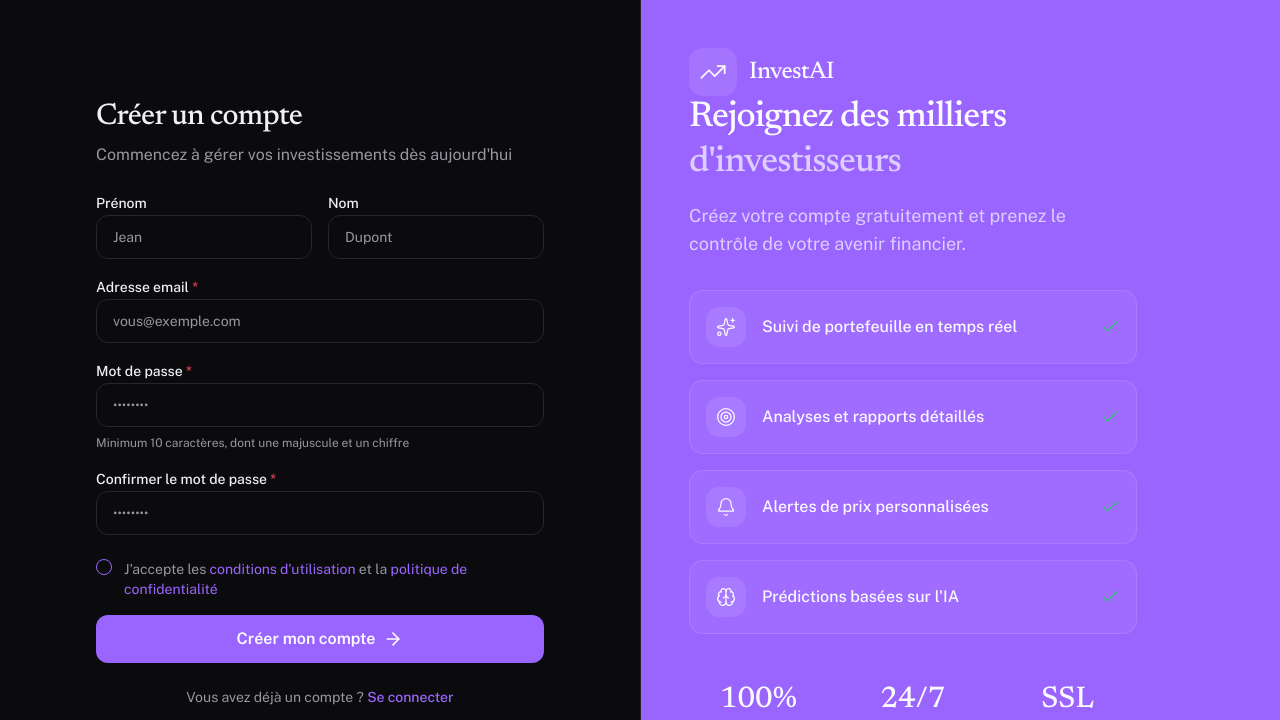
ce que le formulaire refuse avant d’appeler le serveur › exige une adresse valide
Type "pas-une-adresse" into the field labelled "Adresse email *" at [320, 321], box [96, 299, 544, 343]
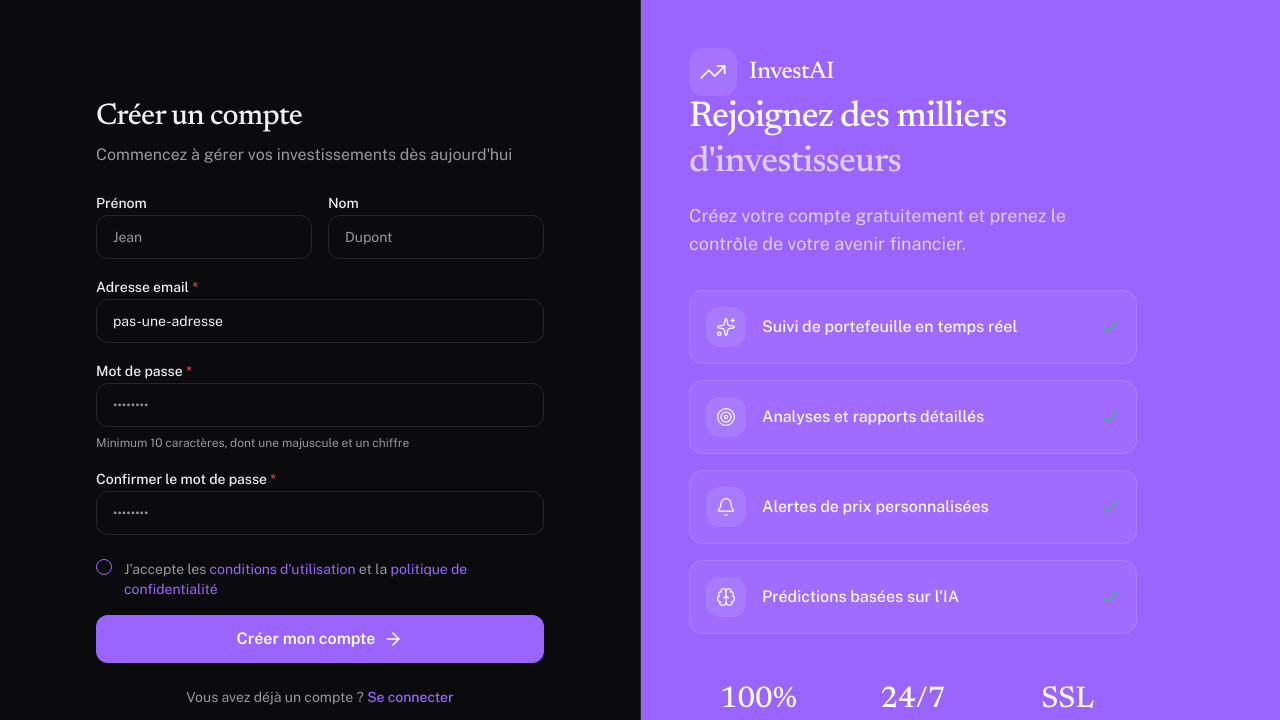
Type "MotDePasseValide1" into the password field labelled "Mot de passe *" at [320, 405], box [96, 383, 544, 427]
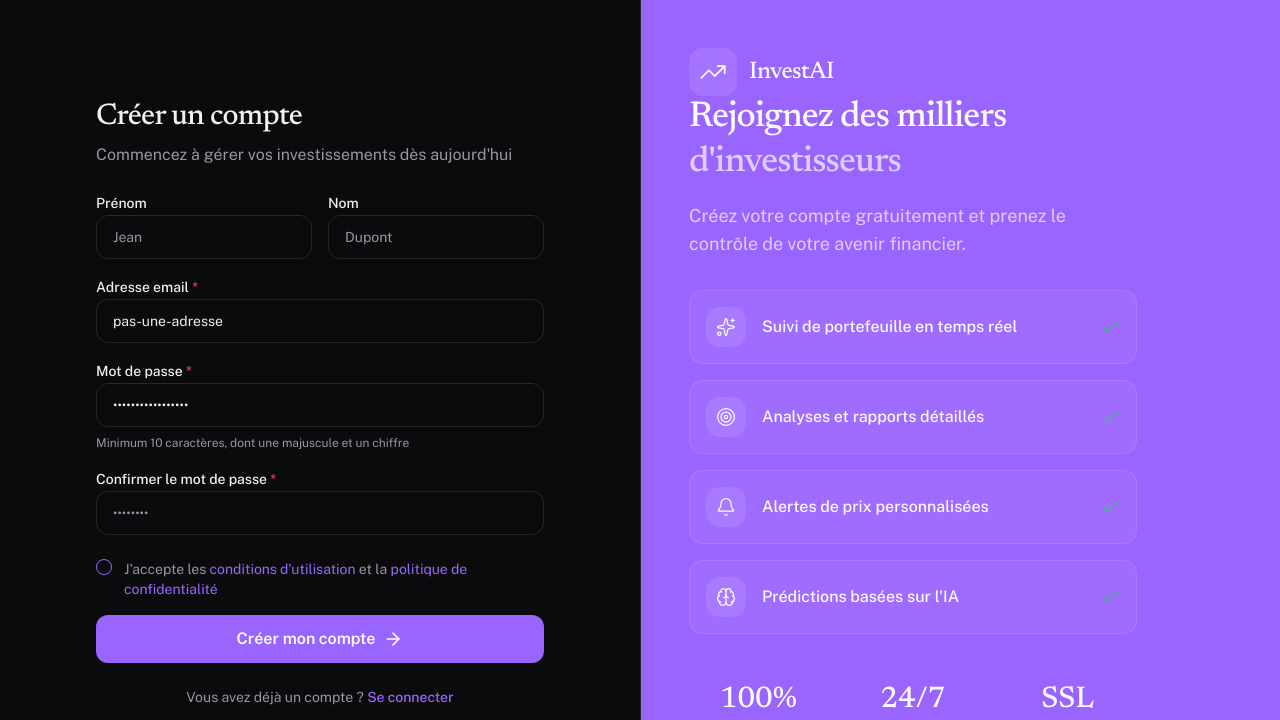
Type "MotDePasseValide1" into the password field labelled "Confirmer le mot de passe *" at [320, 513], box [96, 491, 544, 535]
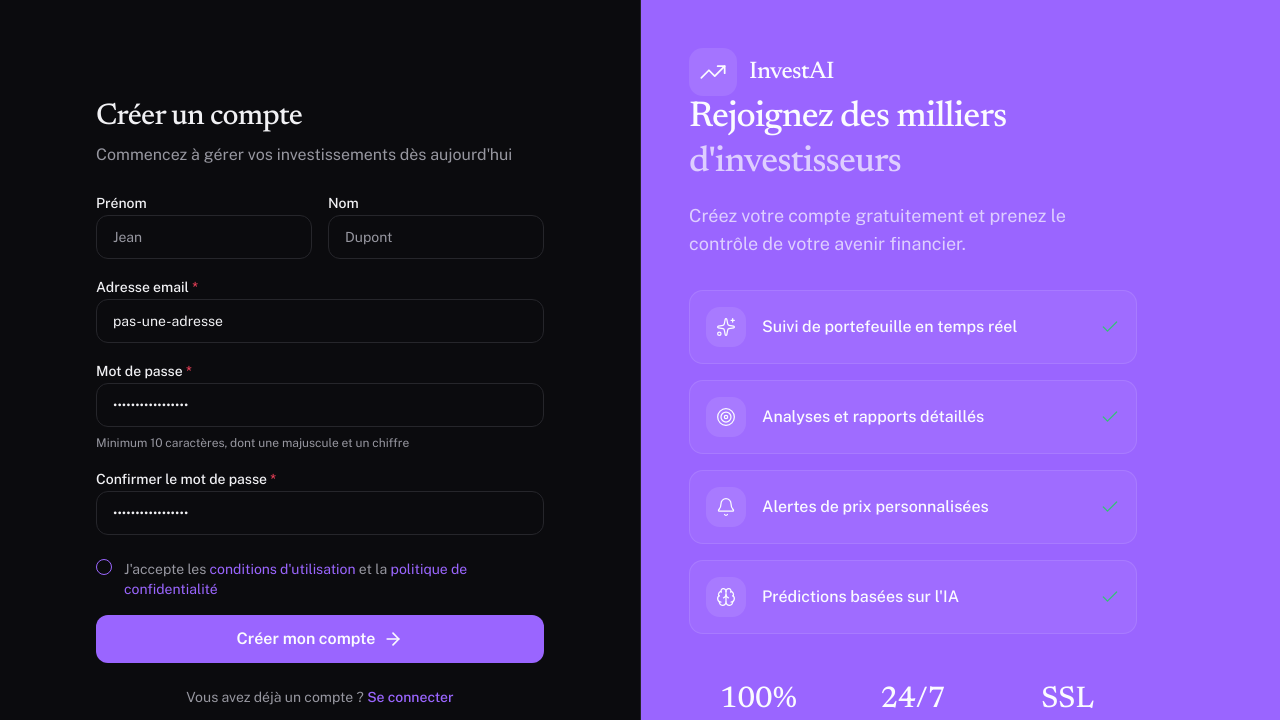
Click the checkbox at [104, 567], box [96, 559, 112, 575]
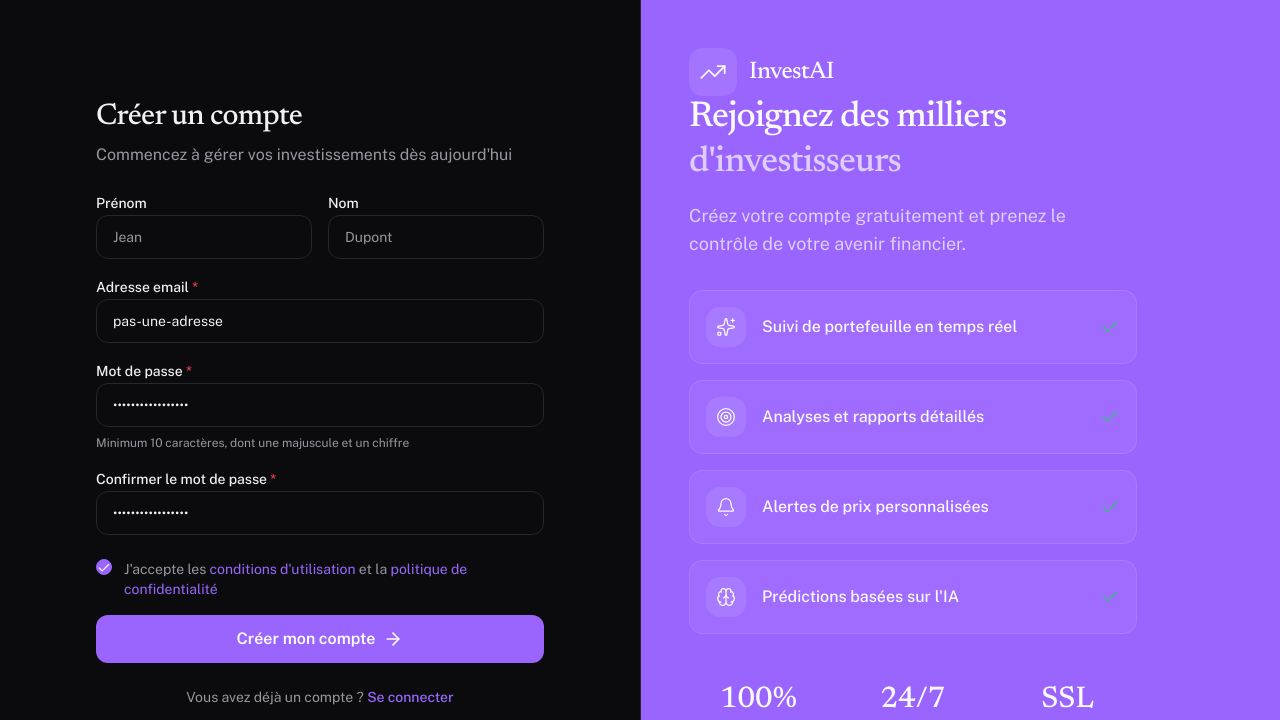
Submit the form, box [96, 191, 544, 663]
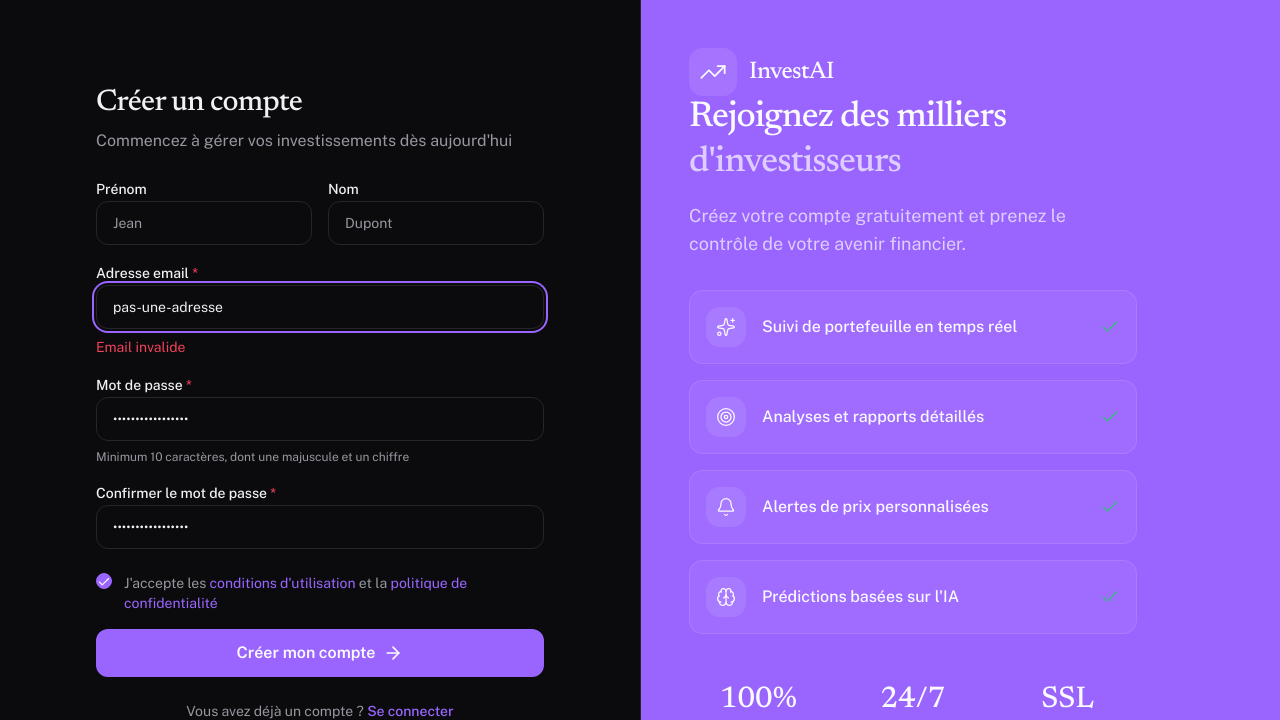
Result: the text "Email invalide" is shown at [96, 339, 186, 355]
